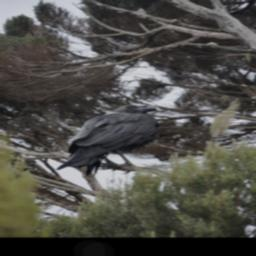Crow: (56, 103, 159, 180)
